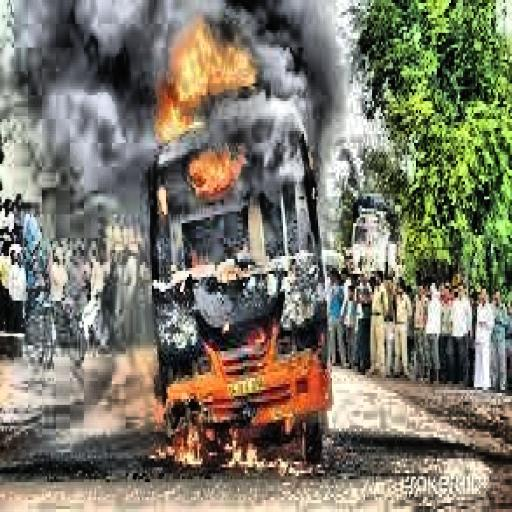fire: (161, 348, 332, 494), (148, 24, 278, 140), (173, 146, 245, 217)
